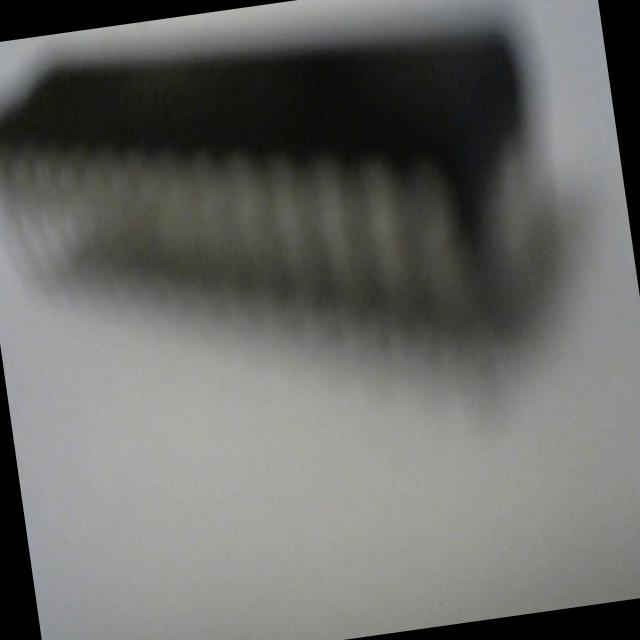atmega: (0, 0, 587, 426)
